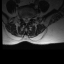CCS_normal: (25, 16, 27, 24)
LFS_stenosis: (29, 16, 31, 20)
LLS_normal: (27, 16, 29, 22)
RFS_normal: (21, 15, 23, 20)
RLS_normal: (23, 16, 25, 23)
